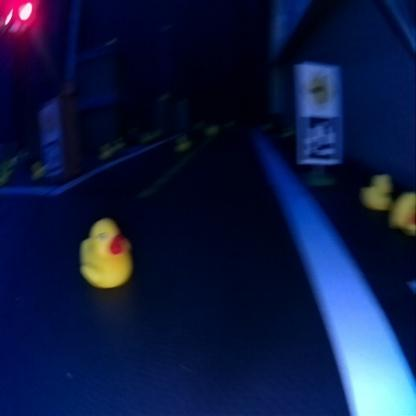Duckie: (81, 223, 132, 285), (363, 168, 390, 208)
Intersection sign: (299, 65, 335, 108)
QR code: (300, 114, 340, 160)
Traffic light: (2, 0, 37, 35)
